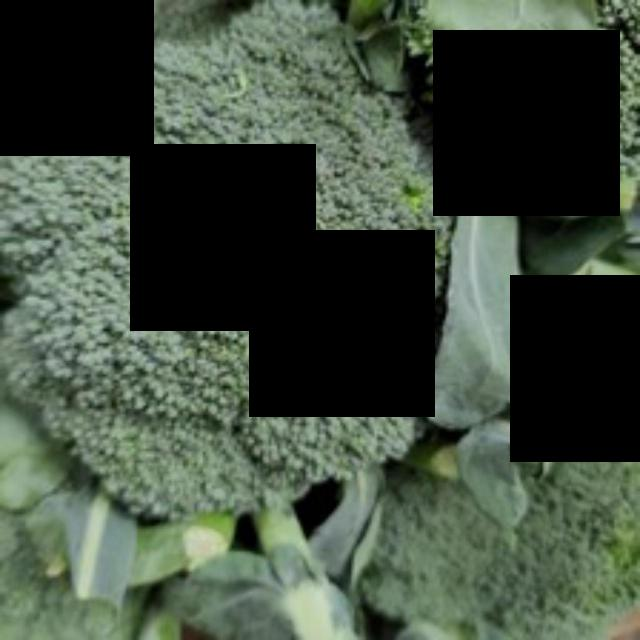broccoli: (0, 9, 460, 530)
